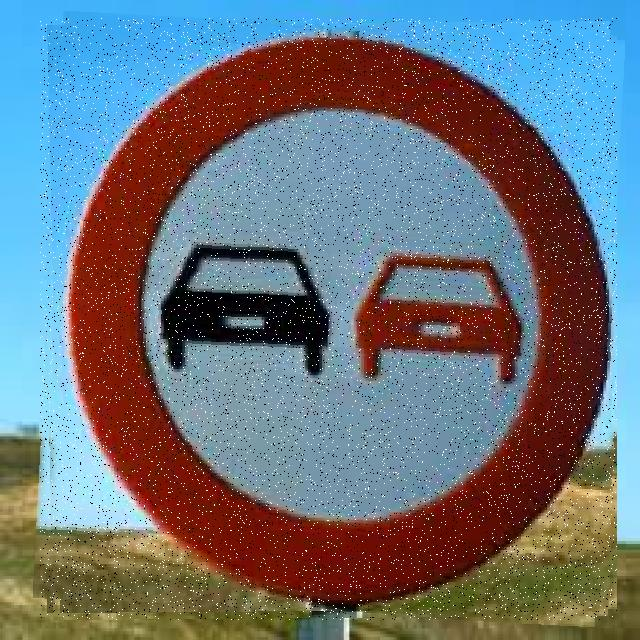no overtaking: (40, 18, 617, 620)
